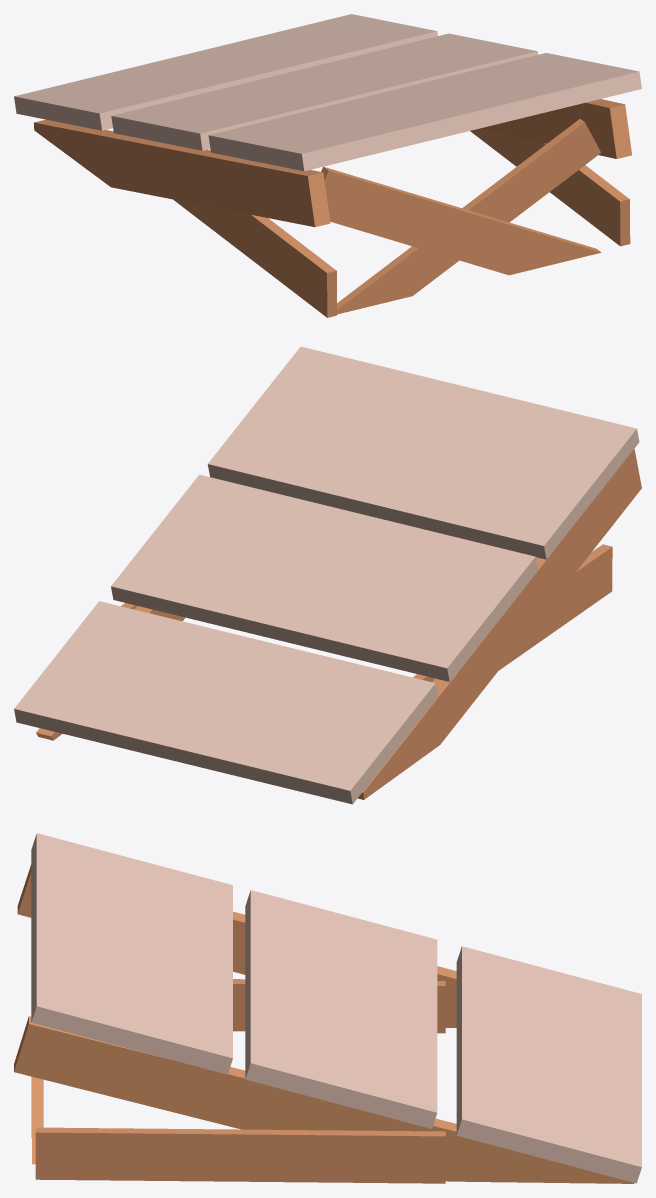
File: ramp.gltf
3 views of the same model, one above another, from view 1: azimuth 30°, elevation 25°; view 2: azimuth 150°, elevation 25°; view 3: azimuth 270°, elevation 25° (orthographic). The views are drawn at different scales.
Parts seen in each view (by area): view 1: Cube.017, Cube.016, Cube.018, Cube.022, Cube.023, Cube.024, Cube.021, Cube.019, Cube.020; view 2: Cube.017, Cube.016, Cube.018, Cube.022, Cube.021; view 3: Cube.017, Cube.016, Cube.018, Cube.020, Cube.019, Cube.022, Cube.021, Cube.023.
Boxes of the visible parts, x1=… form: Cube.017: x1=208, y1=53, x2=641, y2=171; Cube.016: x1=111, y1=33, x2=538, y2=150; Cube.018: x1=14, y1=14, x2=437, y2=130; Cube.022: x1=34, y1=119, x2=330, y2=227; Cube.023: x1=321, y1=166, x2=601, y2=275; Cube.024: x1=337, y1=119, x2=600, y2=314; Cube.021: x1=173, y1=199, x2=336, y2=317; Cube.019: x1=470, y1=129, x2=630, y2=246; Cube.020: x1=479, y1=99, x2=631, y2=158; Cube.017: x1=207, y1=346, x2=639, y2=559; Cube.016: x1=111, y1=474, x2=537, y2=681; Cube.018: x1=14, y1=601, x2=437, y2=804; Cube.022: x1=358, y1=449, x2=641, y2=799; Cube.021: x1=413, y1=544, x2=612, y2=681; Cube.017: x1=31, y1=833, x2=232, y2=1074; Cube.016: x1=245, y1=890, x2=437, y2=1128; Cube.018: x1=456, y1=946, x2=641, y2=1183; Cube.020: x1=14, y1=1016, x2=634, y2=1183; Cube.019: x1=35, y1=1127, x2=445, y2=1183; Cube.022: x1=17, y1=864, x2=456, y2=1027; Cube.021: x1=233, y1=979, x2=445, y2=1033; Cube.023: x1=31, y1=1077, x2=43, y2=1164.
Size of the model in its own units: 4.01 by 2.03 by 6.14.
